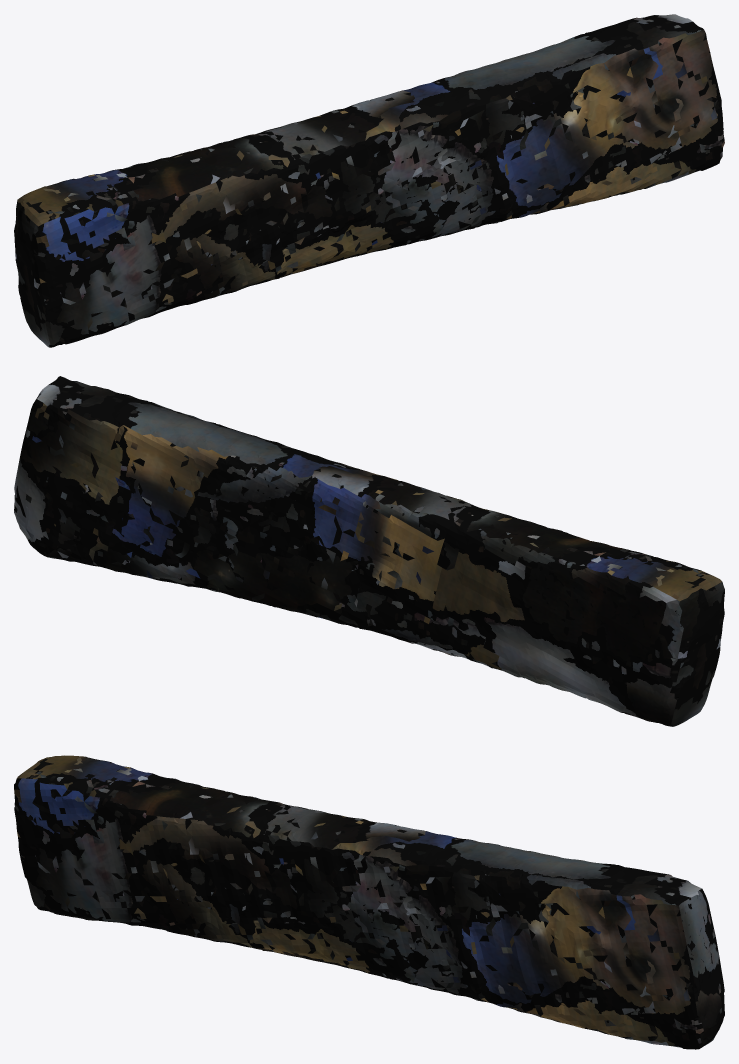
Rendered from center_benchmark_mesh_remote-black.obj.
The picture shows the model from 3 angles, top to bottom: view 1: azimuth 30°, elevation 25°; view 2: azimuth 150°, elevation 25°; view 3: azimuth 330°, elevation 25°; orthographic projection.
Bounding box in the file's own units: 0.205 × 0.0492 × 0.0229.
